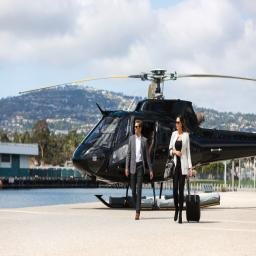helicopter: (17, 57, 255, 215)
